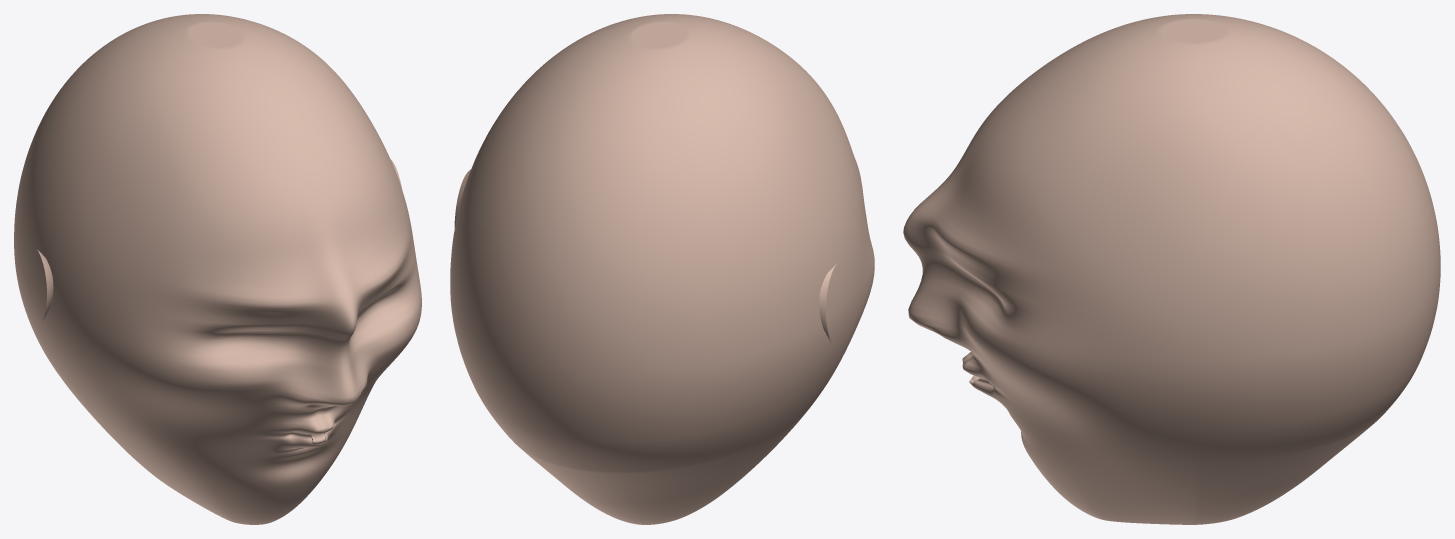
Rendered from female_head.gltf.
The picture shows the model from 3 angles, left to right: view 1: azimuth 30°, elevation 25°; view 2: azimuth 150°, elevation 25°; view 3: azimuth 270°, elevation 25°; orthographic projection. The views are drawn at different scales.
Parts seen in each view (by area): view 1: female_head; view 2: female_head; view 3: female_head.
Boxes of the visible parts, <box> form: female_head: <box>14,14,421,524</box>; female_head: <box>450,14,874,524</box>; female_head: <box>903,14,1440,524</box>.
Size of the model in its own units: 0.1773 by 0.2121 by 0.2158.
